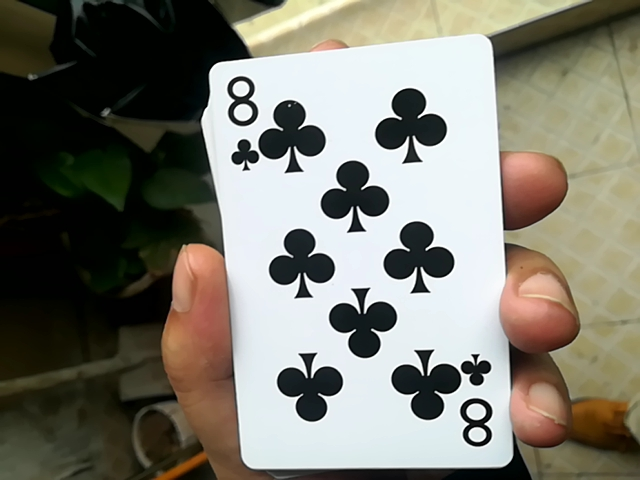mh 8: (198, 47, 518, 471)
